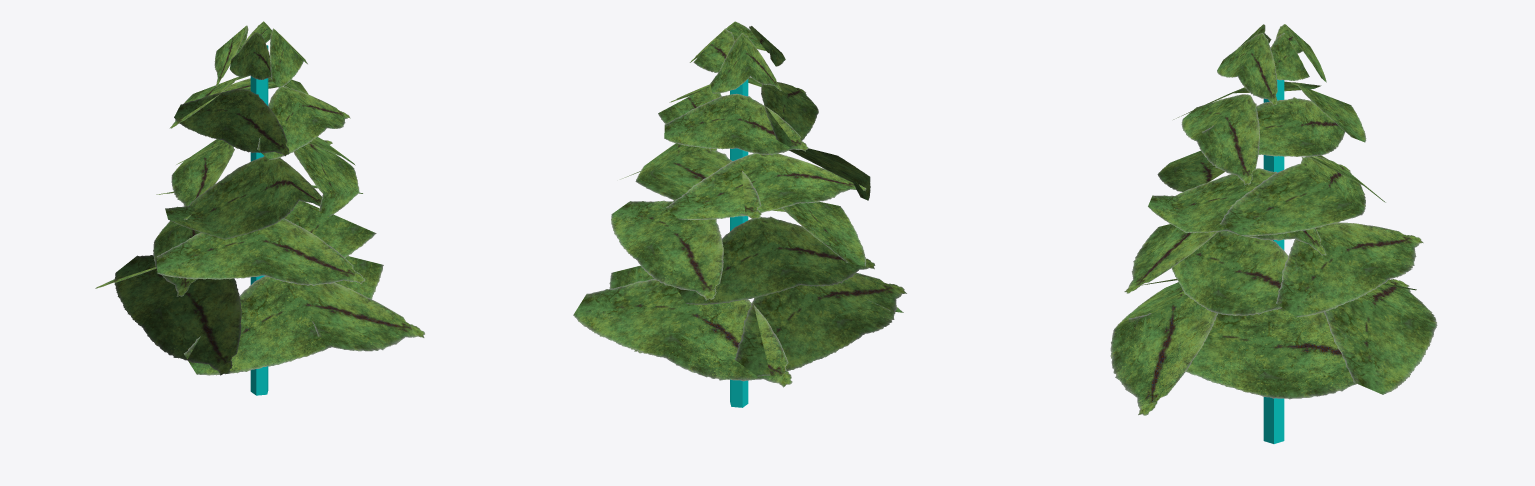
File: tree.fbx
3 renders of one model, left to right at view 1: azimuth 30°, elevation 25°; view 2: azimuth 150°, elevation 25°; view 3: azimuth 270°, elevation 25°, orthographic. The views are drawn at different scales.
Visible parts, largest first — view 1: leaf6 (×5), leaf4 (×5), leaf8 (×3), leaf7 (×2), trunk; view 2: leaf8 (×5), leaf4 (×4), leaf7 (×4), leaf6, trunk; view 3: leaf7 (×5), leaf6 (×5), leaf8 (×4), leaf4, trunk.
Part boxes in pixels (x1,y1,x2,y2): leaf6 (×5): [156, 28, 424, 375]; leaf4 (×5): [114, 32, 322, 375]; leaf8 (×3): [169, 25, 249, 219]; leaf7 (×2): [284, 200, 383, 337]; trunk: [250, 45, 268, 395]; leaf8 (×5): [573, 33, 866, 387]; leaf4 (×4): [676, 82, 906, 376]; leaf7 (×4): [609, 28, 761, 353]; leaf6: [782, 202, 866, 266]; trunk: [730, 79, 748, 407]; leaf7 (×5): [1128, 33, 1365, 399]; leaf6 (×5): [1110, 33, 1326, 415]; leaf8 (×4): [1275, 24, 1437, 394]; leaf4: [1157, 150, 1224, 191]; trunk: [1263, 79, 1284, 443].
Size of the model in its own units: 1.02 by 0.9863 by 1.04.
